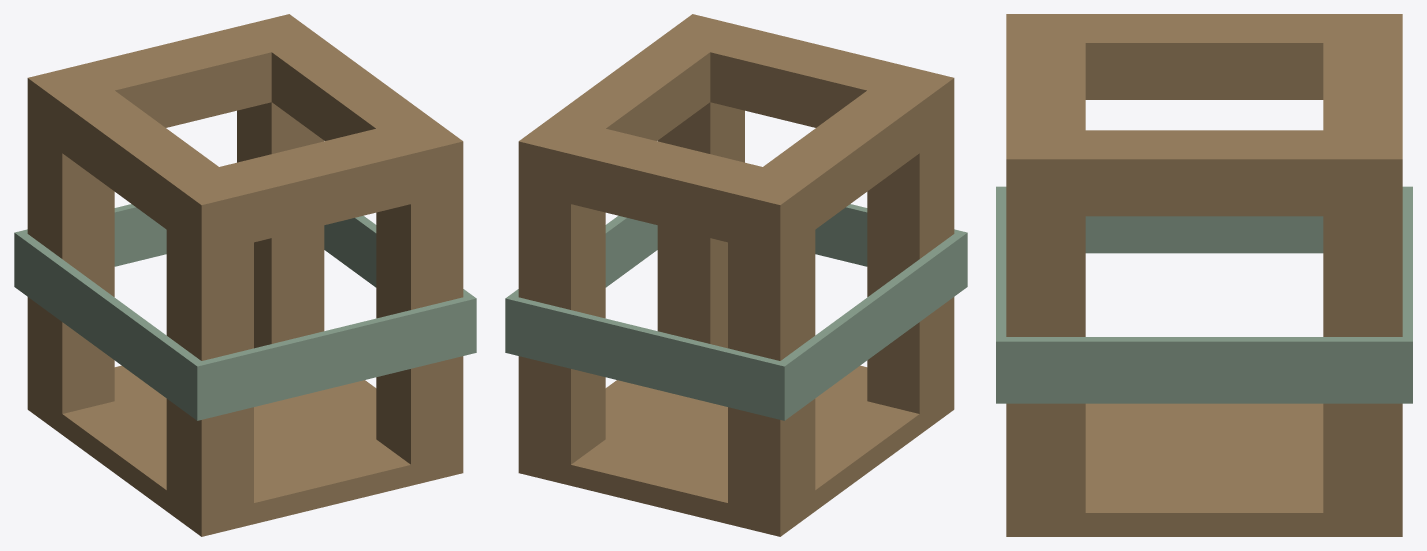
The model's file is rock_slinger_magazine(burst1).fbx.
3 renders of one model, left to right at view 1: azimuth 30°, elevation 25°; view 2: azimuth 150°, elevation 25°; view 3: azimuth 270°, elevation 25°, orthographic. The views are drawn at different scales.
Parts seen in each view (by area): view 1: magazine(burst1); view 2: magazine(burst1); view 3: magazine(burst1).
Boxes of the visible parts, x1,y1,x2,y2 form: magazine(burst1): [14, 14, 476, 536]; magazine(burst1): [505, 14, 967, 536]; magazine(burst1): [996, 14, 1412, 536].
Bounding box in the file's own units: 26.14 × 29.68 × 29.68.
Materials: 1 (1 with a texture image).
